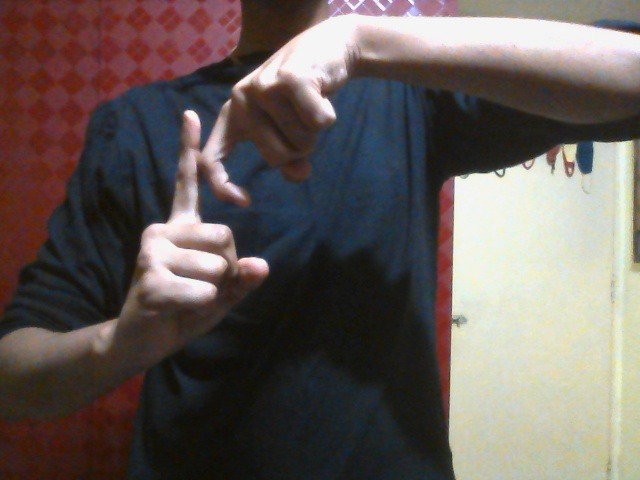K: (122, 59, 339, 337)
